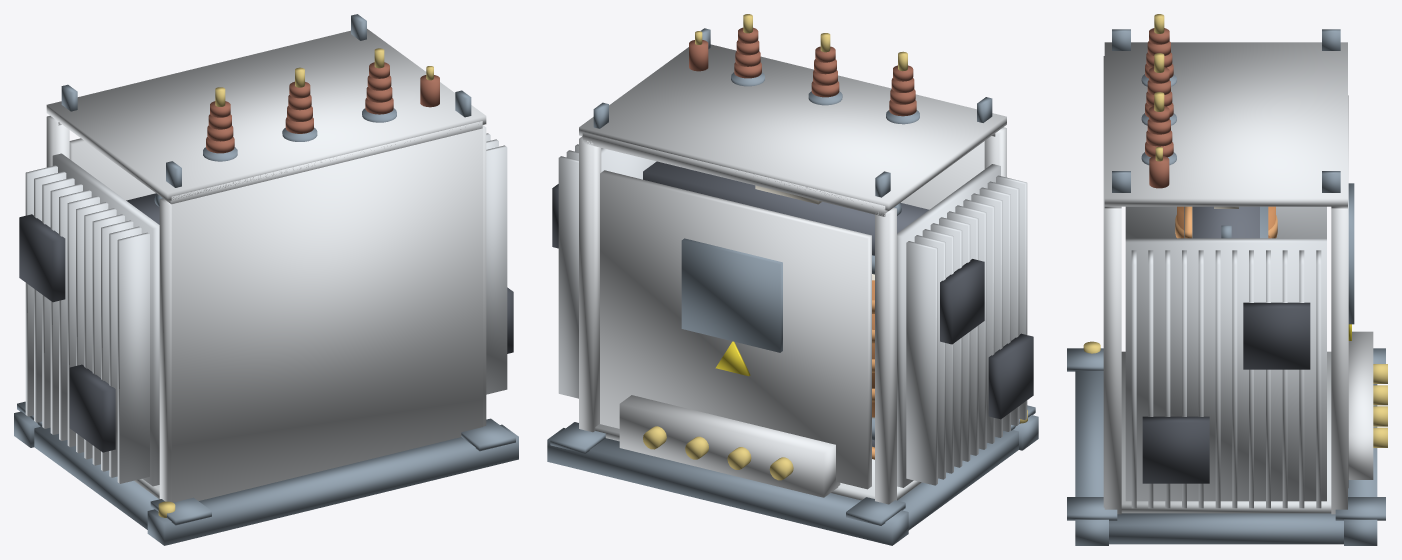
File: marine_transformer.glb
The picture shows the model from 3 angles, left to right: view 1: azimuth 30°, elevation 25°; view 2: azimuth 150°, elevation 25°; view 3: azimuth 270°, elevation 25°; orthographic projection. The views are drawn at different scales.
Parts seen in each view (by area): view 1: Transformer_Casing_Back_Wall, Transformer_Tank_Lid, Transformer_Base_Skid_Port, Transformer_Radiator_Fin_P_1, Transformer_Radiator_Fin_S_1, Transformer_Radiator_Bank_Port, Transformer_Pillar_AP, Transformer_Base_Crossbeam_Aft, Transformer_Fan_Housing_Port_Upper, Transformer_Fan_Housing_Port_Lower, Transformer_Casing_Top_Rim_Aft, Transformer_Front_Access_Door (+16 smaller); view 2: Transformer_Front_Access_Door, Transformer_Tank_Lid, Transformer_Base_Skid_Stbd, Transformer_Cable_Gland_Box, Transformer_Inspection_Window_Frame, Transformer_Radiator_Fin_P_12, Transformer_Pillar_AS, Transformer_Pillar_FS, Transformer_Core_Top_Yoke, Transformer_Radiator_Fin_S_12, Transformer_Radiator_Bank_Port, Transformer_Casing_Top_Rim_Fwd (+21 smaller); view 3: Transformer_Tank_Lid, Transformer_Radiator_Bank_Stbd, Transformer_Base_Crossbeam_Fwd, Transformer_Pillar_FP, Transformer_Pillar_FS, Transformer_Fan_Housing_Stbd_Lower, Transformer_Fan_Housing_Stbd_Upper, Transformer_Base_Skid_Port, Transformer_Casing_Bottom_Pan, Transformer_Cable_Gland_Box, Transformer_Radiator_Bank_Port, Transformer_Core_Top_Yoke (+24 smaller).
Part boxes in pixels (bbox=[...]): Transformer_Casing_Back_Wall: bbox=[171, 128, 483, 502]; Transformer_Tank_Lid: bbox=[46, 29, 486, 201]; Transformer_Base_Skid_Port: bbox=[147, 424, 518, 545]; Transformer_Radiator_Fin_P_1: bbox=[117, 232, 149, 483]; Transformer_Radiator_Fin_S_1: bbox=[486, 145, 507, 394]; Transformer_Radiator_Bank_Port: bbox=[52, 153, 159, 486]; Transformer_Pillar_AP: bbox=[159, 198, 171, 501]; Transformer_Base_Crossbeam_Aft: bbox=[34, 426, 158, 529]; Transformer_Fan_Housing_Port_Upper: bbox=[19, 214, 65, 302]; Transformer_Fan_Housing_Port_Lower: bbox=[69, 364, 115, 452]; Transformer_Casing_Top_Rim_Aft: bbox=[168, 121, 482, 204]; Transformer_Front_Access_Door: bbox=[69, 138, 155, 200]; Transformer_Front_Access_Door: bbox=[600, 170, 871, 489]; Transformer_Tank_Lid: bbox=[579, 44, 1006, 210]; Transformer_Base_Skid_Stbd: bbox=[547, 428, 908, 545]; Transformer_Cable_Gland_Box: bbox=[619, 395, 840, 497]; Transformer_Inspection_Window_Frame: bbox=[681, 238, 782, 352]; Transformer_Radiator_Fin_P_12: bbox=[906, 241, 937, 485]; Transformer_Pillar_AS: bbox=[875, 207, 896, 504]; Transformer_Pillar_FS: bbox=[579, 136, 601, 432]; Transformer_Core_Top_Yoke: bbox=[643, 161, 929, 255]; Transformer_Radiator_Fin_S_12: bbox=[558, 156, 578, 398]; Transformer_Radiator_Bank_Port: bbox=[897, 164, 1000, 487]; Transformer_Casing_Top_Rim_Fwd: bbox=[582, 132, 888, 216]; Transformer_Tank_Lid: bbox=[1104, 42, 1347, 206]; Transformer_Radiator_Bank_Stbd: bbox=[1125, 238, 1326, 501]; Transformer_Base_Crossbeam_Fwd: bbox=[1109, 513, 1343, 544]; Transformer_Pillar_FP: bbox=[1104, 208, 1121, 514]; Transformer_Pillar_FS: bbox=[1331, 208, 1347, 514]; Transformer_Fan_Housing_Stbd_Lower: bbox=[1142, 416, 1209, 483]; Transformer_Fan_Housing_Stbd_Upper: bbox=[1243, 302, 1310, 369]; Transformer_Base_Skid_Port: bbox=[1075, 370, 1108, 545]; Transformer_Casing_Bottom_Pan: bbox=[1121, 351, 1331, 513]; Transformer_Cable_Gland_Box: bbox=[1348, 331, 1373, 479]; Transformer_Radiator_Bank_Port: bbox=[1125, 206, 1326, 238]; Transformer_Core_Top_Yoke: bbox=[1193, 206, 1259, 238].
Size of the model in its own units: 1.14 by 1.06 by 0.765.
